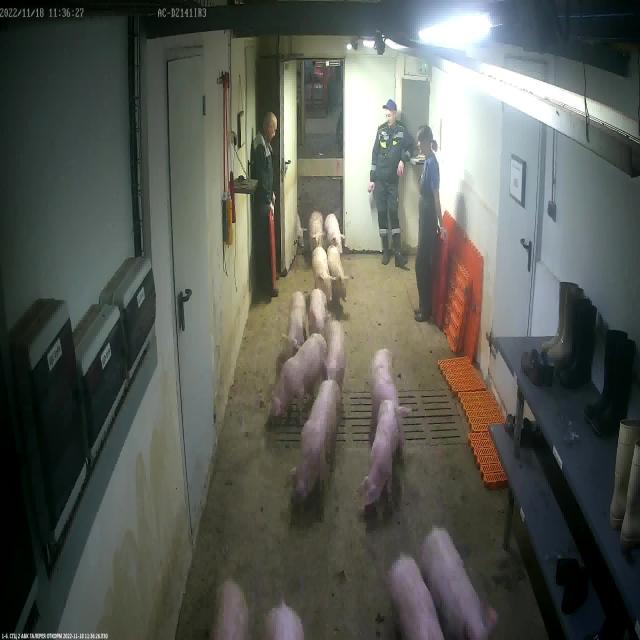pig: (423, 531, 488, 640), (292, 380, 340, 497), (358, 401, 400, 515), (388, 558, 444, 640), (272, 334, 326, 416), (374, 348, 411, 431), (210, 581, 248, 640), (279, 293, 304, 354), (265, 603, 304, 640), (313, 246, 336, 301), (328, 245, 350, 299), (324, 323, 344, 380), (310, 288, 328, 336), (325, 214, 345, 248), (310, 213, 324, 246), (296, 213, 307, 247)
